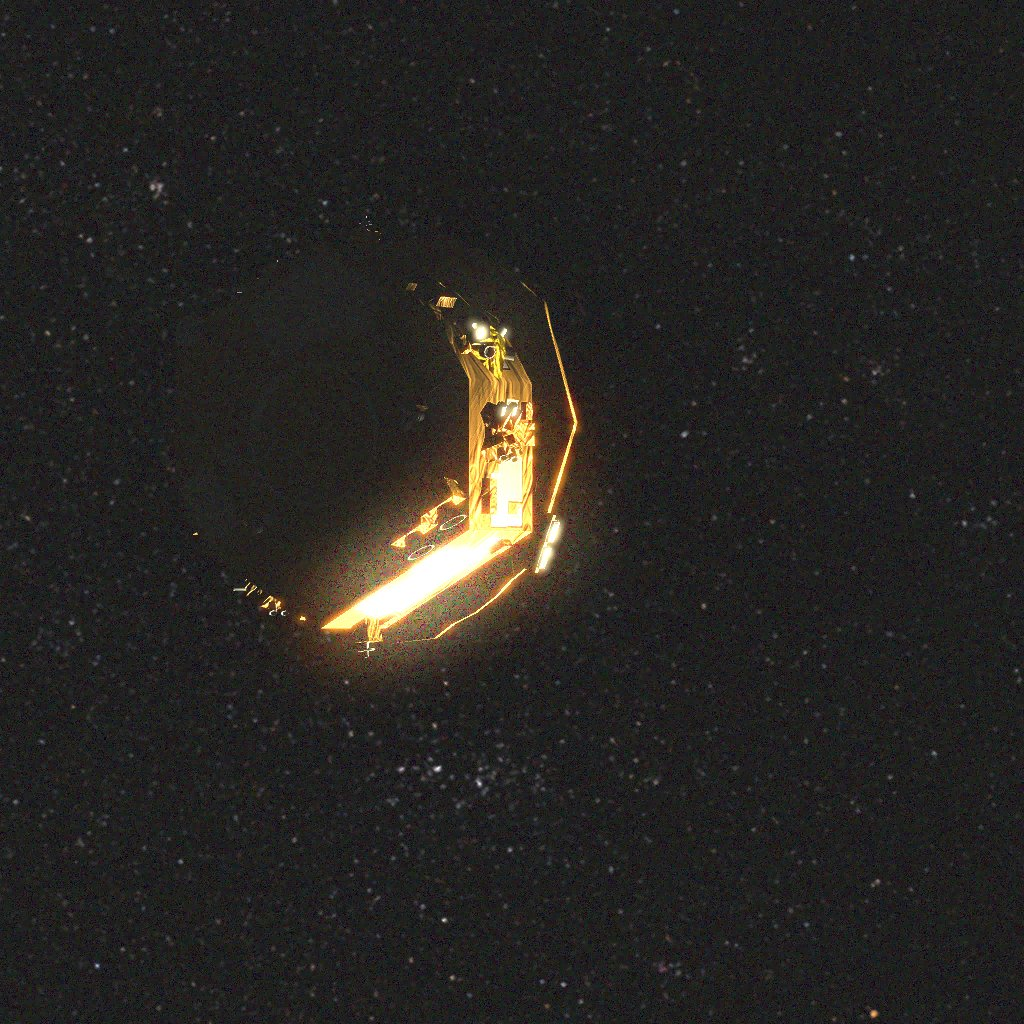lisa_pathfinder: (176, 250, 592, 642)
